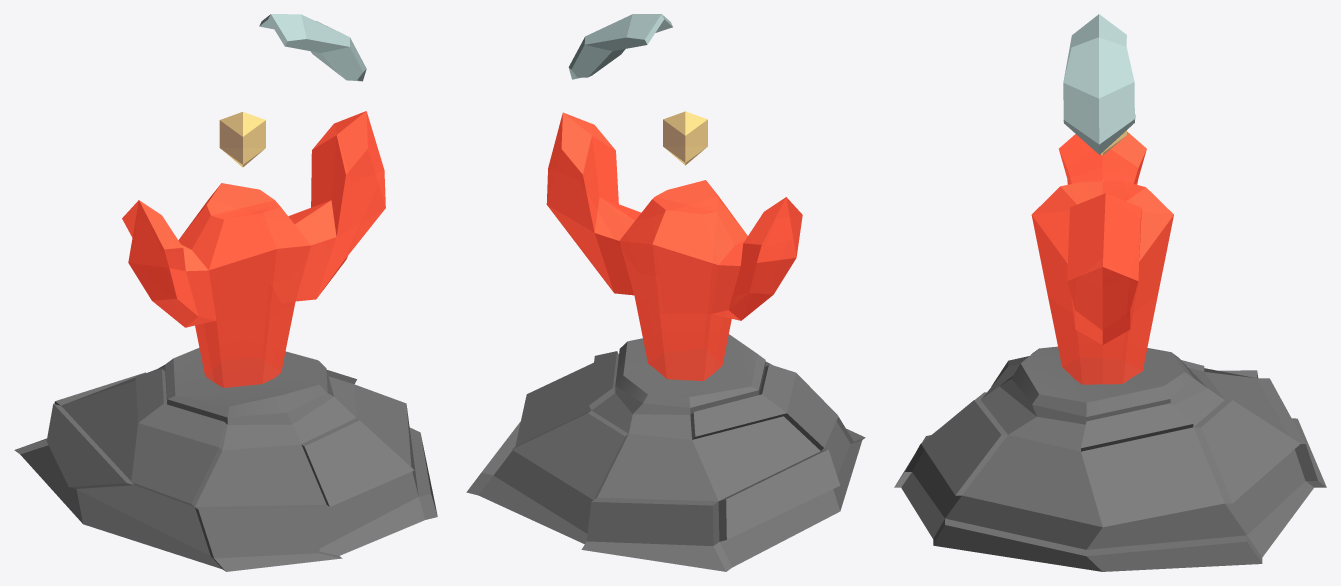
Rendered from upgradedCore.fbx.
The picture shows the model from 3 angles, left to right: view 1: azimuth 30°, elevation 25°; view 2: azimuth 150°, elevation 25°; view 3: azimuth 270°, elevation 25°; orthographic projection. The views are drawn at different scales.
Visible parts, largest first — view 1: rockUpgrade, crystalUpgrade, crystalUpgrade1, lesserSphere; view 2: rockUpgrade, crystalUpgrade, crystalUpgrade1, lesserSphere; view 3: rockUpgrade, crystalUpgrade, crystalUpgrade1.
Part boxes in pixels (<box>): rockUpgrade: <box>14,348,437,571</box>; crystalUpgrade: <box>122,111,385,387</box>; crystalUpgrade1: <box>259,14,366,81</box>; lesserSphere: <box>219,112,265,167</box>; rockUpgrade: <box>466,334,865,571</box>; crystalUpgrade: <box>546,112,802,380</box>; crystalUpgrade1: <box>568,14,672,79</box>; lesserSphere: <box>663,111,707,165</box>; rockUpgrade: <box>894,346,1326,571</box>; crystalUpgrade: <box>1031,131,1173,384</box>; crystalUpgrade1: <box>1063,14,1135,154</box>.
Bounding box in the file's own units: 189 × 250 × 202.
